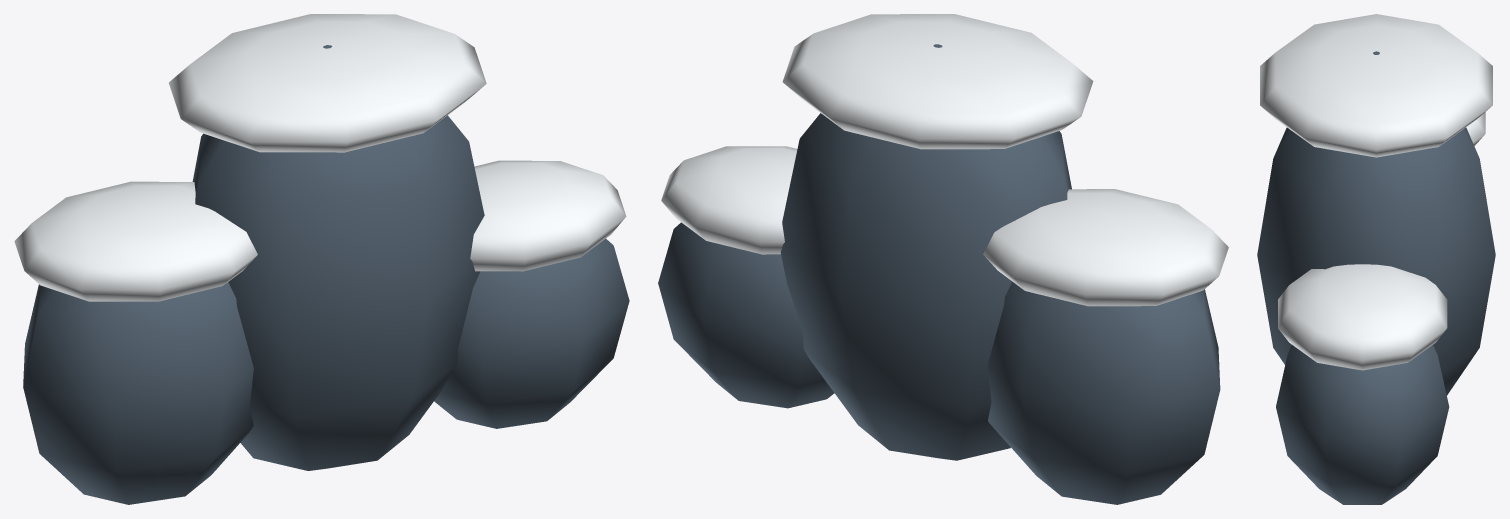
The model's file is outcrop.glb.
The picture shows the model from 3 angles, left to right: view 1: azimuth 30°, elevation 25°; view 2: azimuth 150°, elevation 25°; view 3: azimuth 270°, elevation 25°; orthographic projection. The views are drawn at different scales.
Parts seen in each view (by area): view 1: snowy-rock-outcrop-iron, snowy-rock-outcrop-snow; view 2: snowy-rock-outcrop-iron, snowy-rock-outcrop-snow; view 3: snowy-rock-outcrop-iron, snowy-rock-outcrop-snow.
Boxes of the visible parts, x1,y1,x2,y2 form: snowy-rock-outcrop-iron: (23,45,629,504); snowy-rock-outcrop-snow: (14,14,626,301); snowy-rock-outcrop-iron: (658,44,1220,504); snowy-rock-outcrop-snow: (661,14,1228,306); snowy-rock-outcrop-iron: (1257,51,1495,504); snowy-rock-outcrop-snow: (1260,14,1492,370).
Size of the model in its own units: 4.29 by 3 by 1.72.
